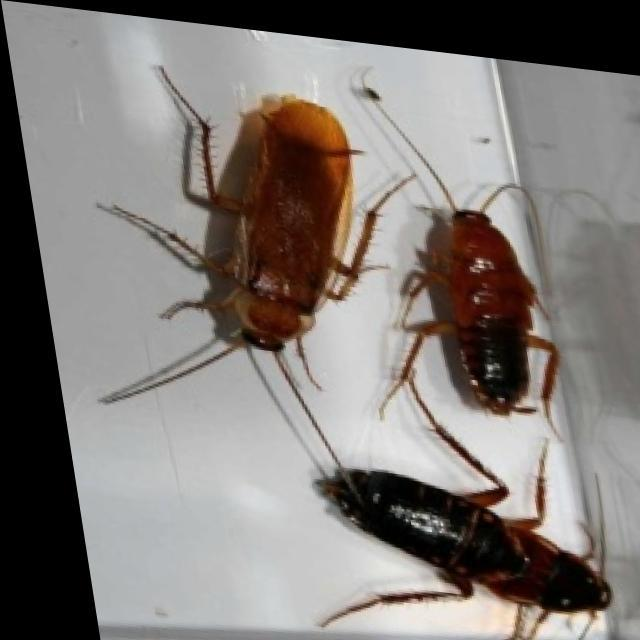cockroach: (324, 425, 639, 640), (178, 88, 410, 371), (419, 163, 549, 446)
